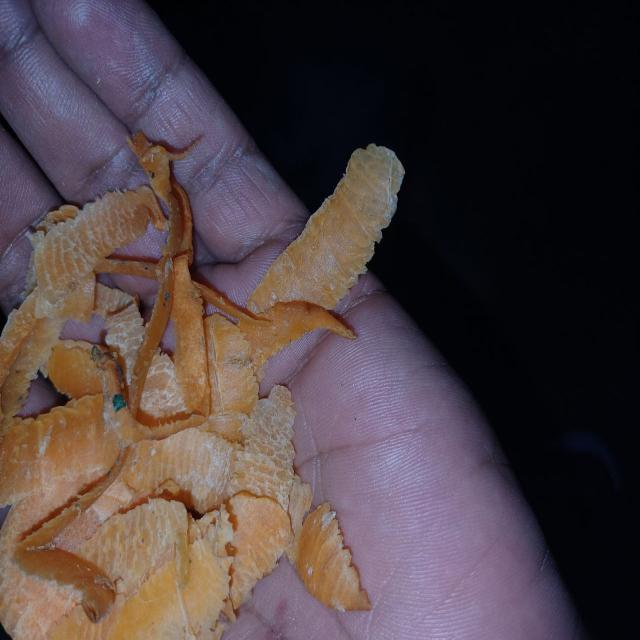organic: (0, 131, 406, 639)
